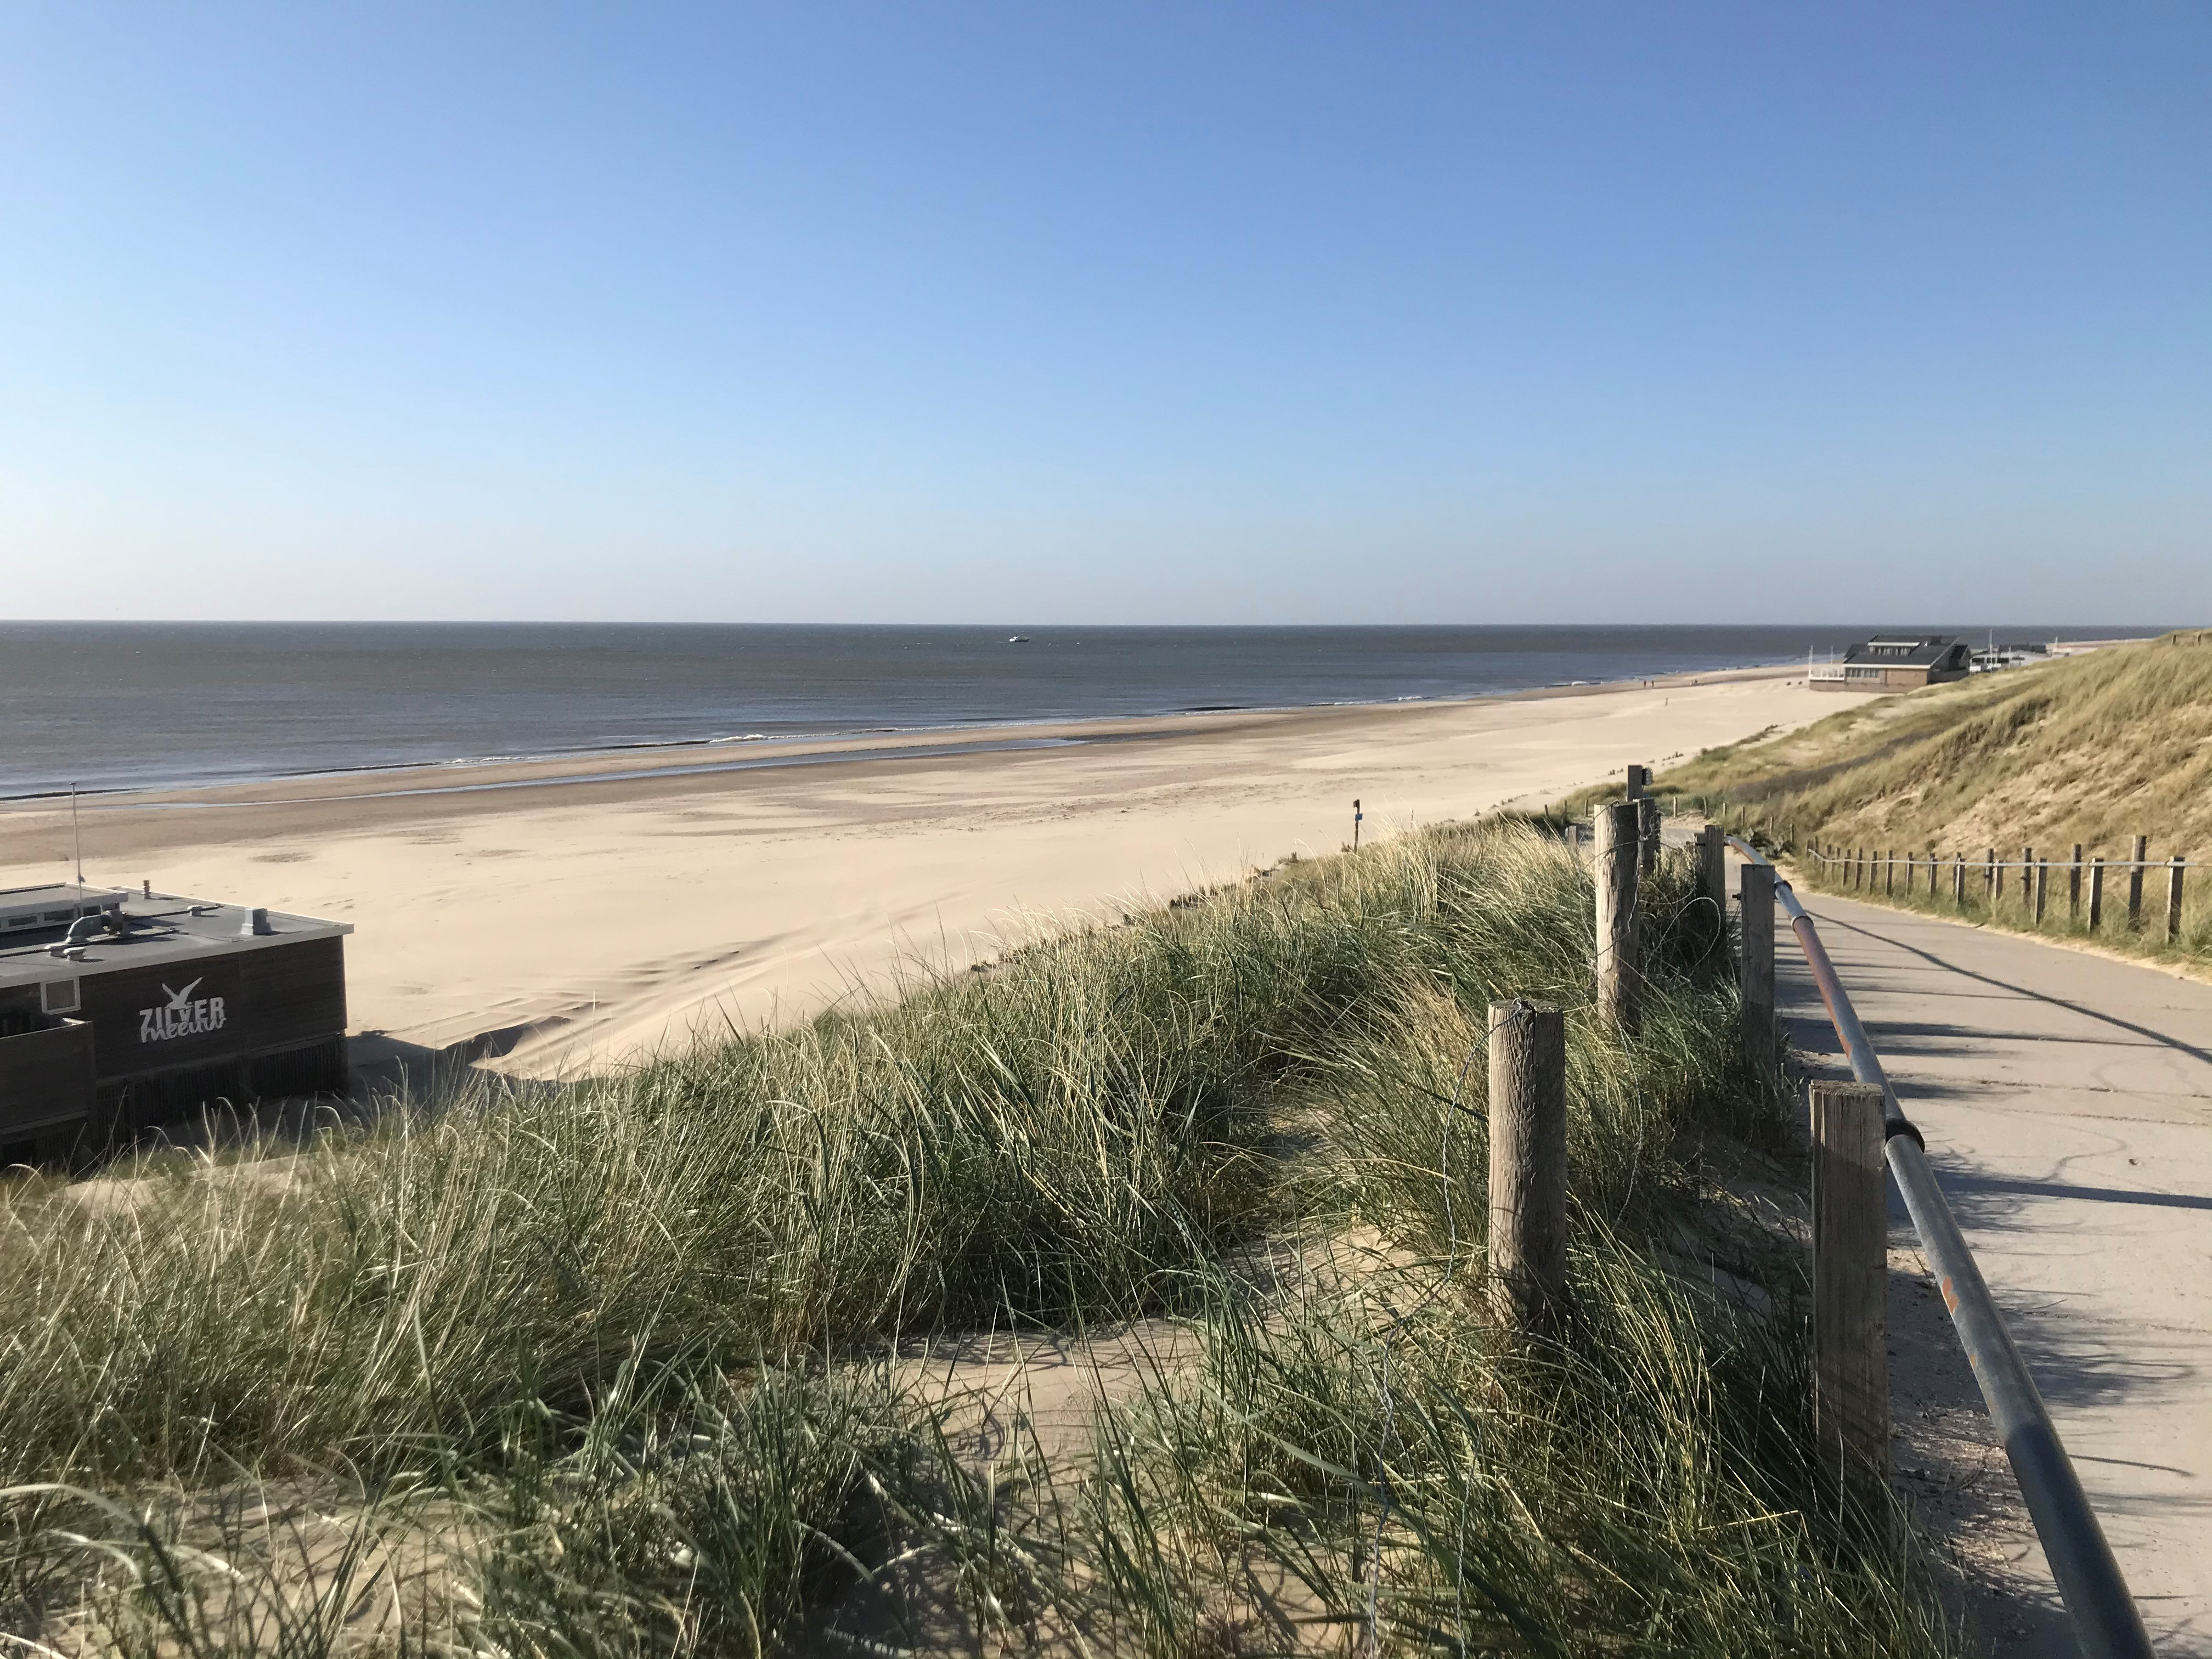zilvermeeuw: (2, 871, 409, 1202)
